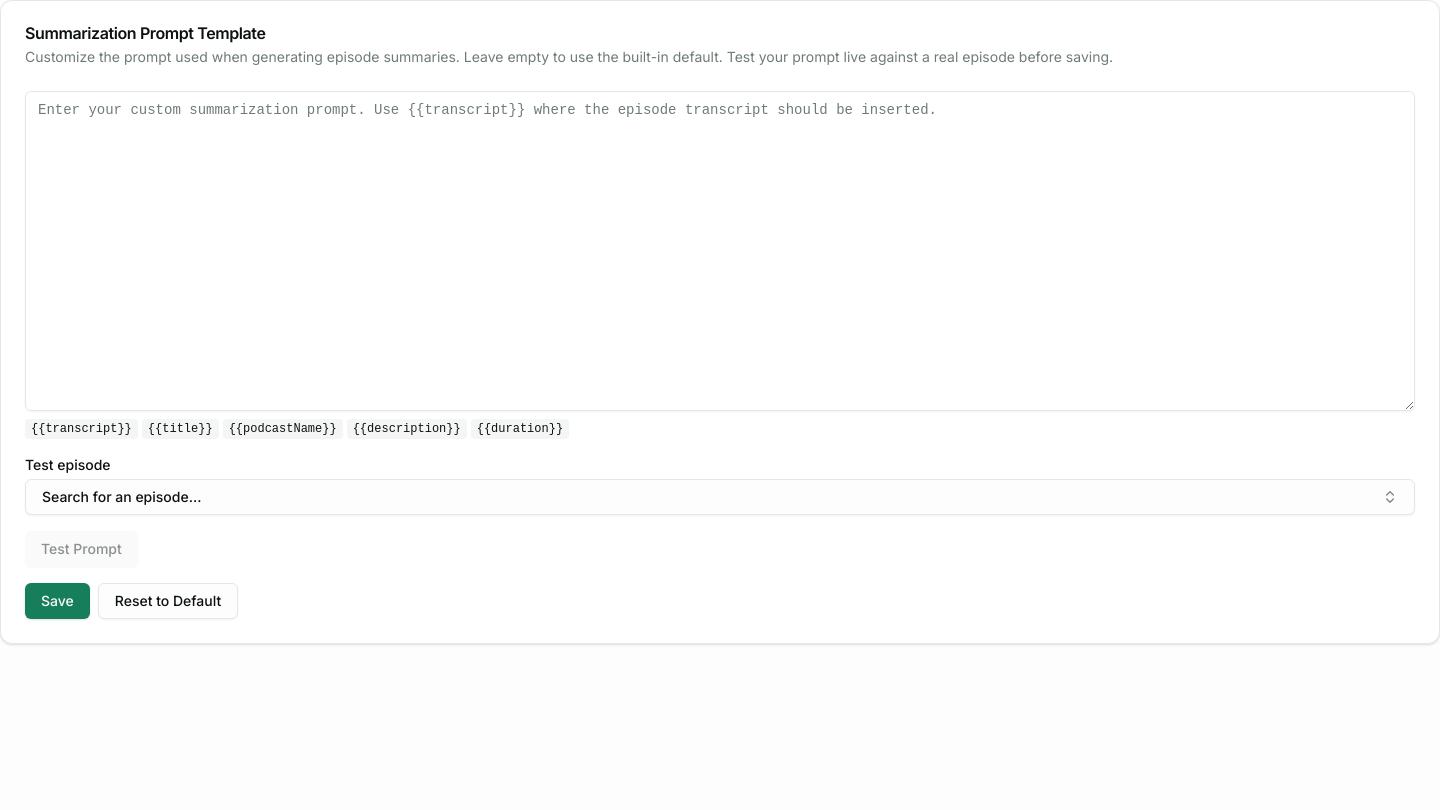
Test: PromptTemplateCard › Save button is disabled when {{transcript}} is missing
Replace the text in the text box with "no placeholder" at (720, 251), box [25,91,1415,411]
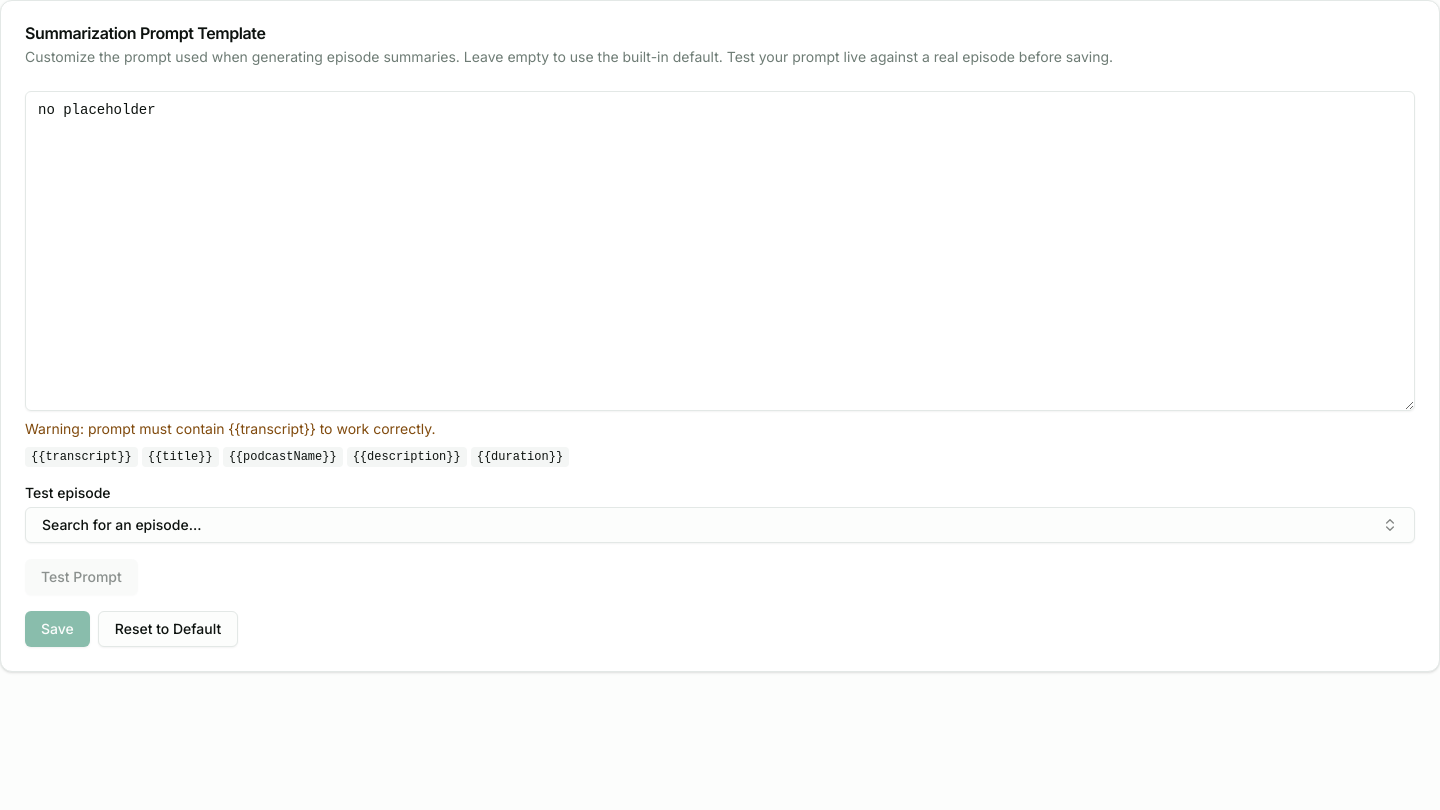
Check: the button "Save" is disabled, box [25,611,90,647]
